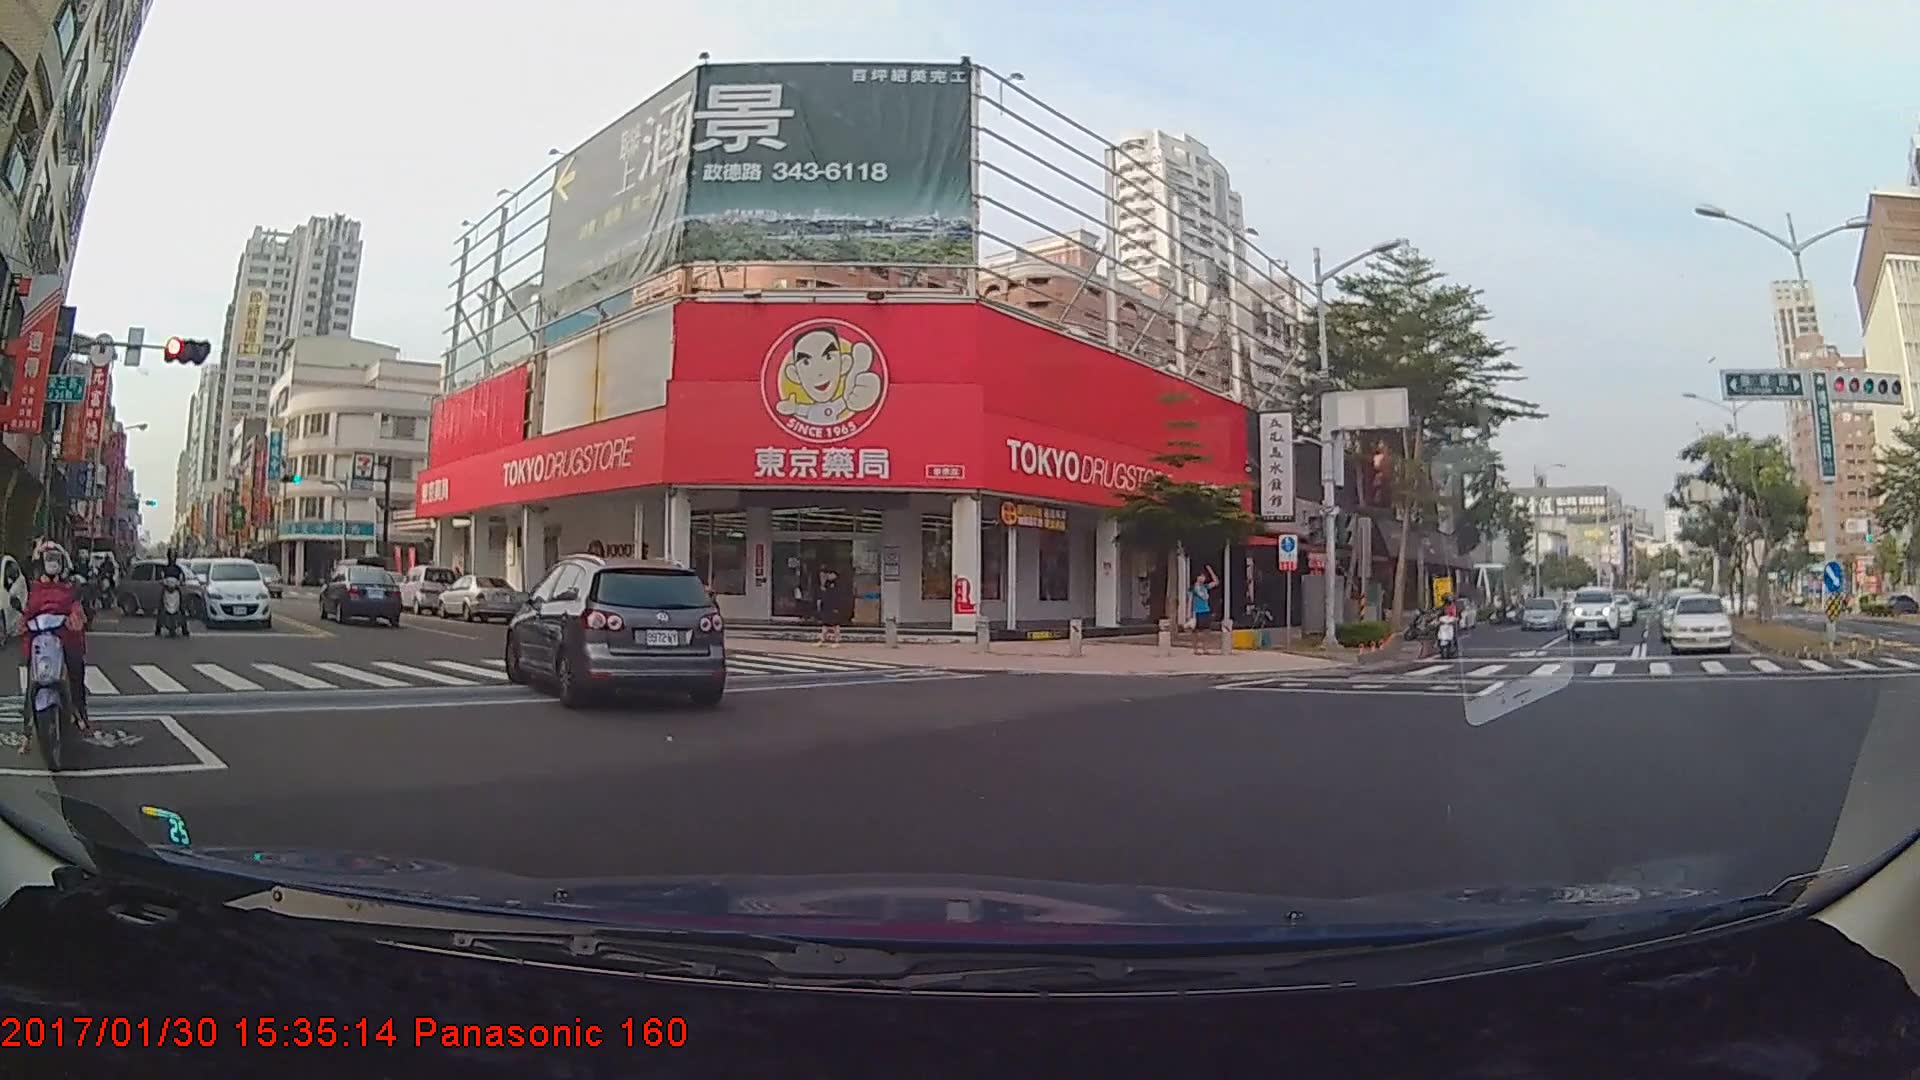pedestrian: (815, 565, 856, 654), (1185, 564, 1219, 656)
rider: (17, 543, 94, 765), (152, 551, 194, 643), (1433, 588, 1471, 655)
vehicle: (506, 555, 727, 709), (319, 562, 402, 626), (198, 556, 272, 629), (118, 559, 210, 616), (435, 573, 522, 622), (1670, 592, 1729, 654), (393, 564, 457, 616), (1566, 585, 1619, 639), (1518, 595, 1560, 630), (1596, 593, 1633, 624)
